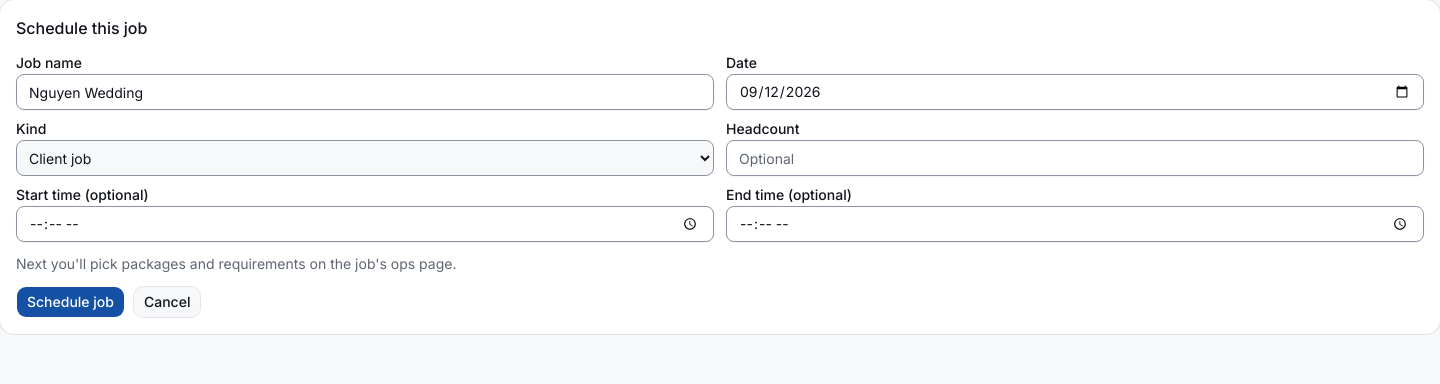
it: ConvertToWorkCard › rejects a one-sided time range with an inline error, without converting
Type "15:00" into the time field labelled "Start time (optional)" at coordinates (365, 224), box x1=16 y1=206 x2=714 y2=242
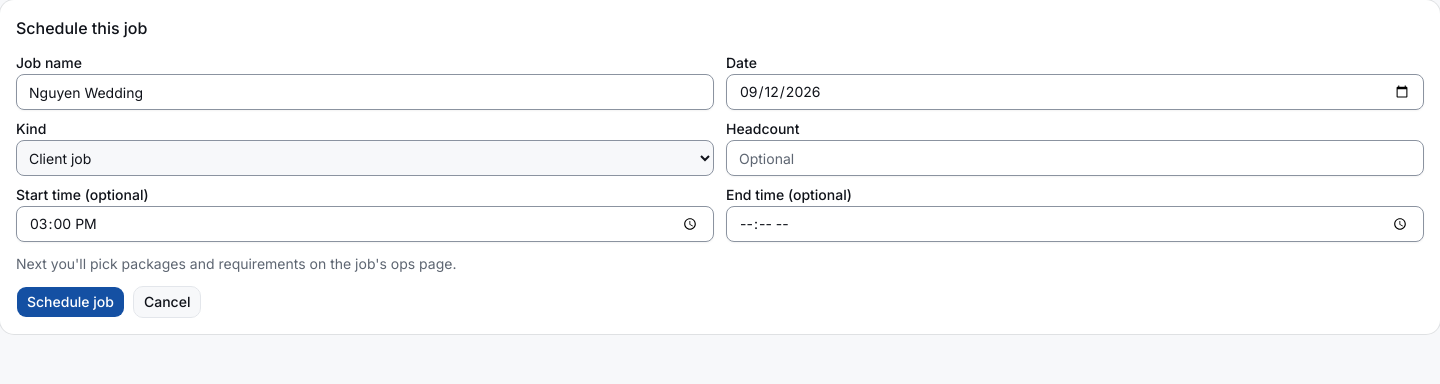
Click the button "Schedule job" at coordinates (70, 302), box x1=16 y1=286 x2=125 y2=318
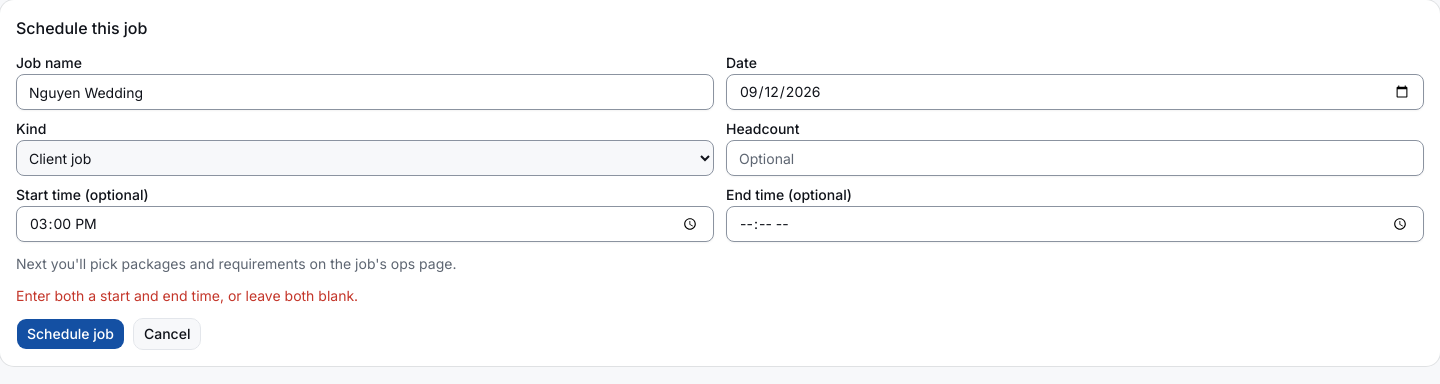
Now the message shows "both a start and end time", box x1=16 y1=287 x2=358 y2=304
